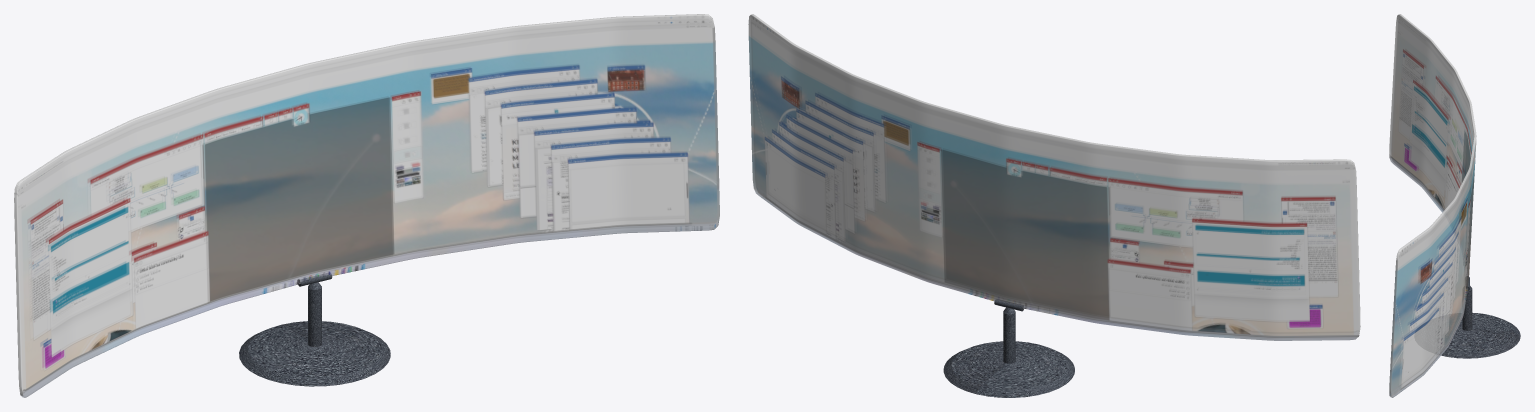
File: futureScreen.glb
3 renders of one model, left to right at view 1: azimuth 30°, elevation 25°; view 2: azimuth 150°, elevation 25°; view 3: azimuth 270°, elevation 25°, orthographic. The views are drawn at different scales.
Parts seen in each view (by area): view 1: screen, foot; view 2: screen, foot; view 3: screen, foot.
Part boxes in pixels (x1,y1,x2,y2): screen: (14,14,719,397); foot: (239,272,390,386); screen: (748,14,1360,340); foot: (943,299,1074,397); screen: (1389,14,1476,397); foot: (1441,276,1520,358).
Bounding box in the file's own units: 2.12 × 0.8422 × 0.492.
2 materials, 2 textured.
